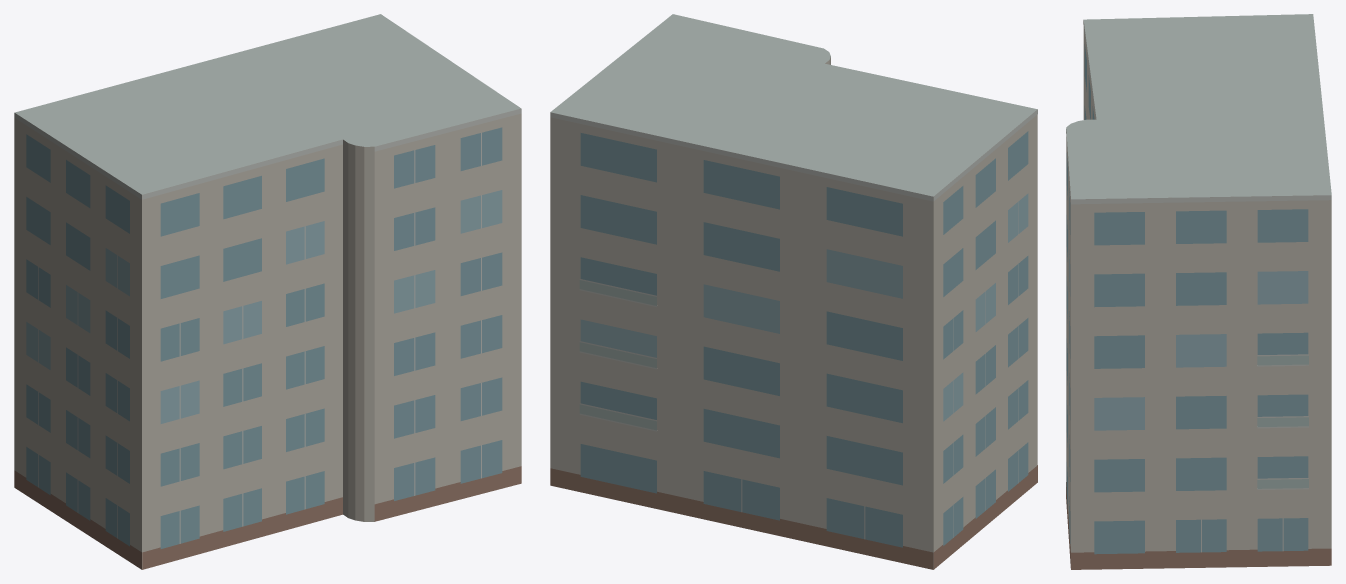
The model's file is survey-upis-32735344.glb.
The picture shows the model from 3 angles, left to right: view 1: azimuth 30°, elevation 25°; view 2: azimuth 150°, elevation 25°; view 3: azimuth 270°, elevation 25°; orthographic projection.
Parts seen in each view (by area): view 1: survey-upis-32735344.tmp; view 2: survey-upis-32735344.tmp; view 3: survey-upis-32735344.tmp.
Boxes of the visible parts, x1,y1,x2,y2 form: survey-upis-32735344.tmp: (14,14,521,569); survey-upis-32735344.tmp: (550,14,1037,569); survey-upis-32735344.tmp: (1066,14,1331,569).
Bounding box in the file's own units: 19.64 × 18.3 × 11.9.
